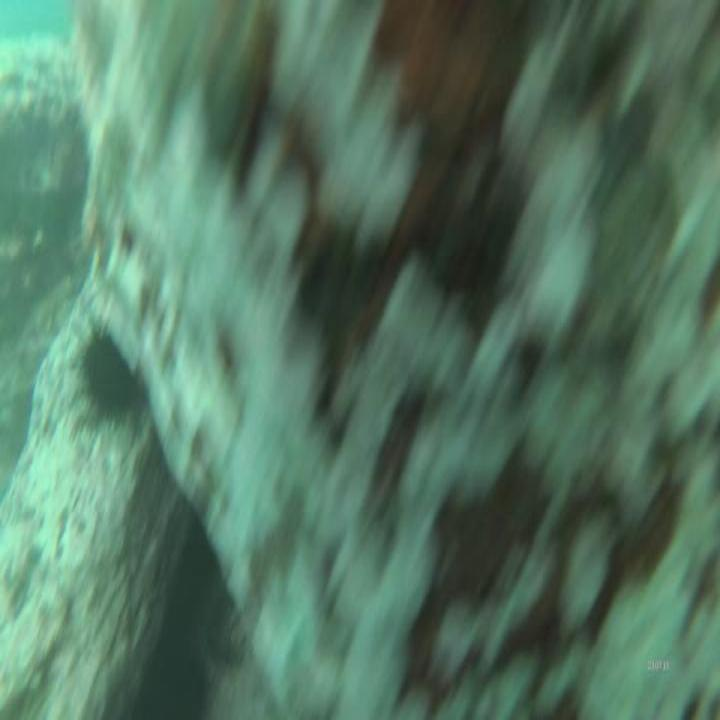echinus: (83, 330, 140, 428)
